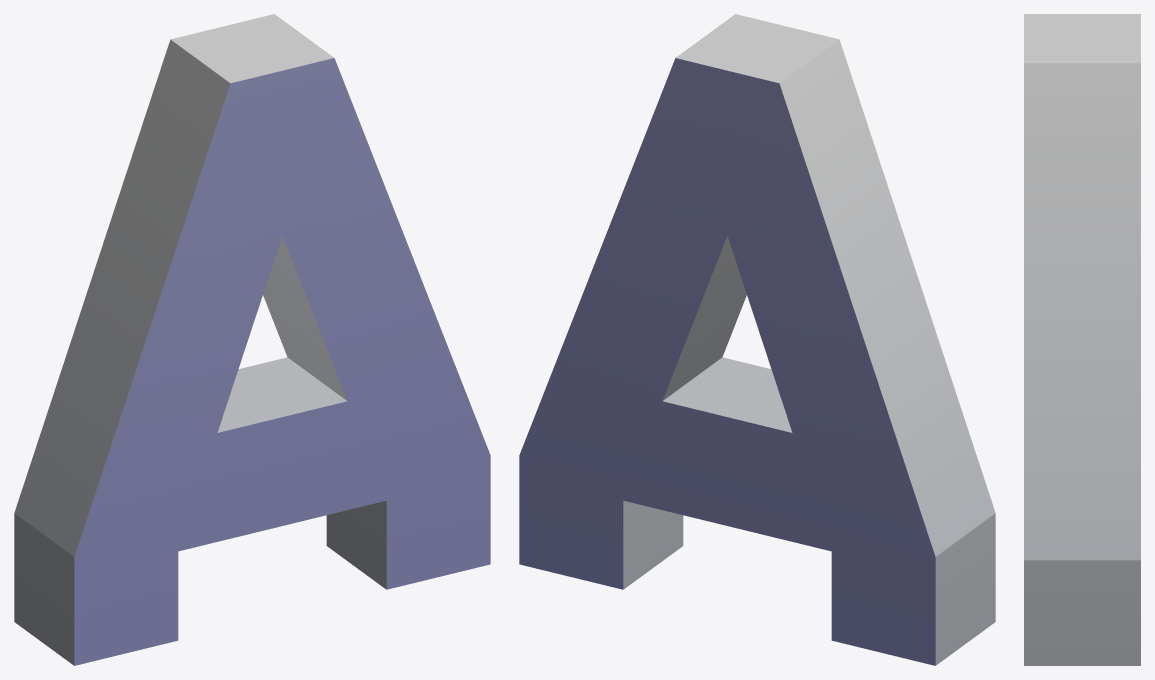
Rendered from letter-a (%thumbnail).glb.
3 views of the same model, side by side, from view 1: azimuth 30°, elevation 25°; view 2: azimuth 150°, elevation 25°; view 3: azimuth 270°, elevation 25° (orthographic). The views are drawn at different scales.
Parts seen in each view (by area): view 1: letter-a (%thumbnail); view 2: letter-a (%thumbnail); view 3: letter-a (%thumbnail).
Boxes of the visible parts, x1,y1,x2,y2 form: letter-a (%thumbnail): (14, 14, 490, 665); letter-a (%thumbnail): (519, 14, 995, 665); letter-a (%thumbnail): (1024, 14, 1140, 665).
Bounding box in the file's own units: 0.4 × 0.5 × 0.1.
